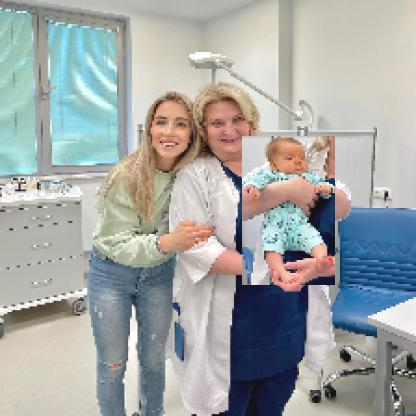child: (243, 137, 337, 287)
